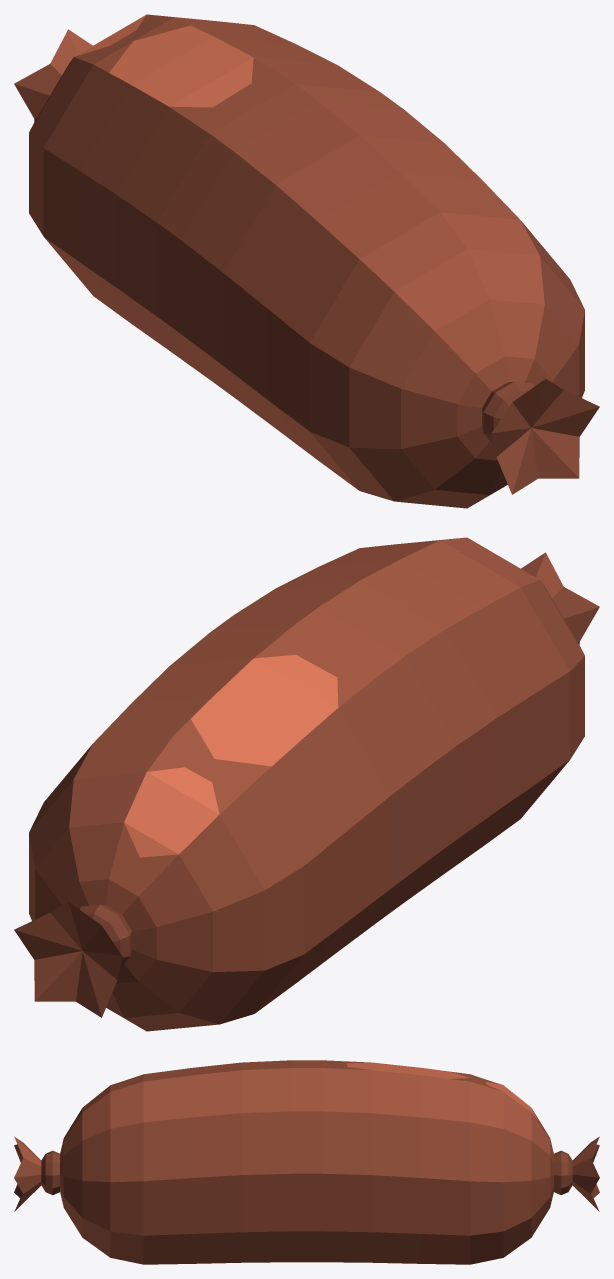
Rendered from chori.fbx.
3 renders of one model, top to bottom at view 1: azimuth 30°, elevation 25°; view 2: azimuth 150°, elevation 25°; view 3: azimuth 270°, elevation 25°, orthographic. The views are drawn at different scales.
Parts seen in each view (by area): view 1: chori; view 2: chori; view 3: chori.
Part boxes in pixels (x1=…): chori: x1=14, y1=14, x2=599, y2=508; chori: x1=14, y1=537, x2=599, y2=1031; chori: x1=14, y1=1060, x2=599, y2=1264.
Bounding box in the file's own units: 63.22 × 67.52 × 189.
